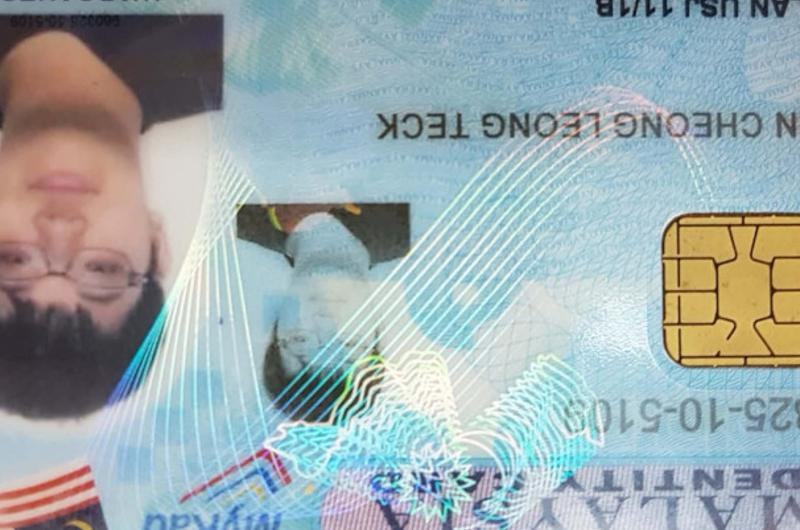hologram: (415, 142, 598, 349)
